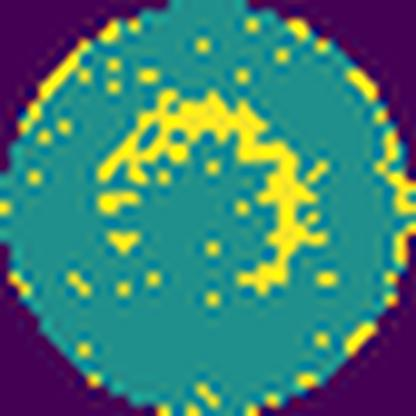Donut: (87, 86, 332, 310)
